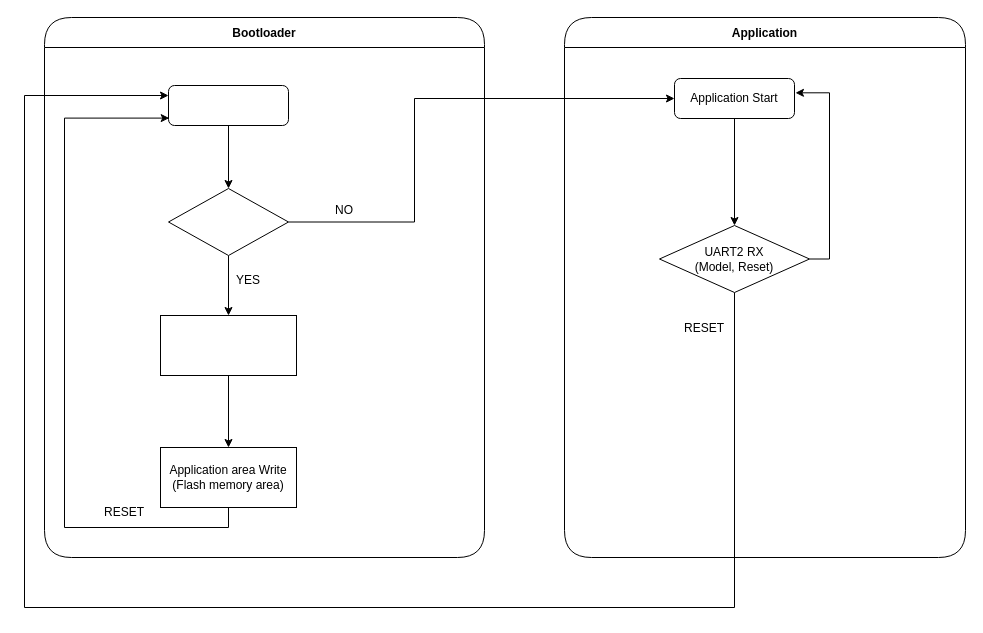
This 983x633 diagram has some shape labels left out. Here are the shapes that lost their labels. From the top down, the centre of each, then its label:
At point (228, 105): "Bootloader Start".
At point (228, 222): "CRC Check".
At point (228, 345): "Application area Erase (Flash memory area)".
